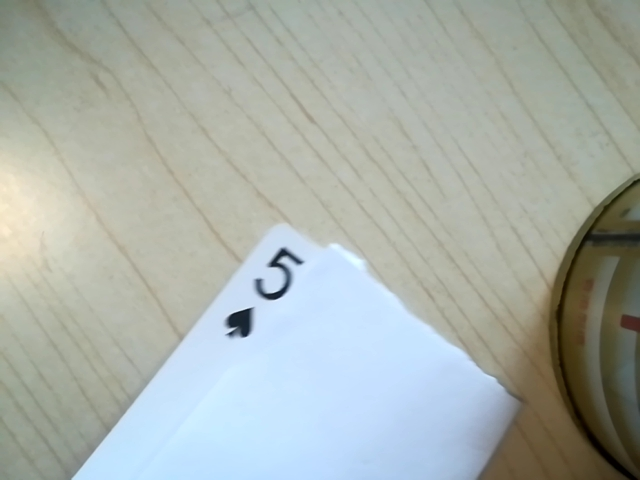ht 5: (211, 240, 321, 342)
